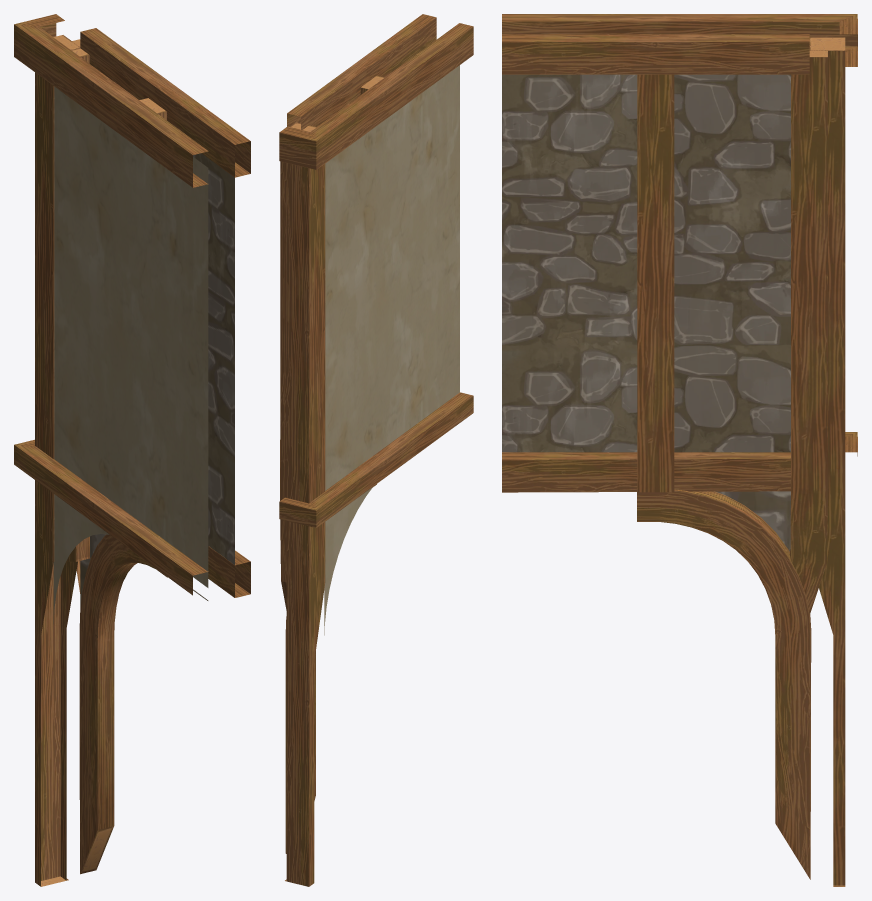
File: Overhang_Side_UnevenBrick_Long_R.gltf
3 renders of one model, left to right at view 1: azimuth 30°, elevation 25°; view 2: azimuth 150°, elevation 25°; view 3: azimuth 270°, elevation 25°, orthographic. The views are drawn at different scales.
Visible parts, largest first — view 1: Overhang_Side_UnevenBrick_Long_R; view 2: Overhang_Side_UnevenBrick_Long_R; view 3: Overhang_Side_UnevenBrick_Long_R.
Boxes of the visible parts, left/top/right/bottom form: Overhang_Side_UnevenBrick_Long_R: left=14, top=14, right=250, bottom=886; Overhang_Side_UnevenBrick_Long_R: left=279, top=14, right=473, bottom=886; Overhang_Side_UnevenBrick_Long_R: left=502, top=14, right=857, bottom=886.
Bounding box in the file's own units: 0.4793 × 6.12 × 2.31.
3 materials, 3 textured.
